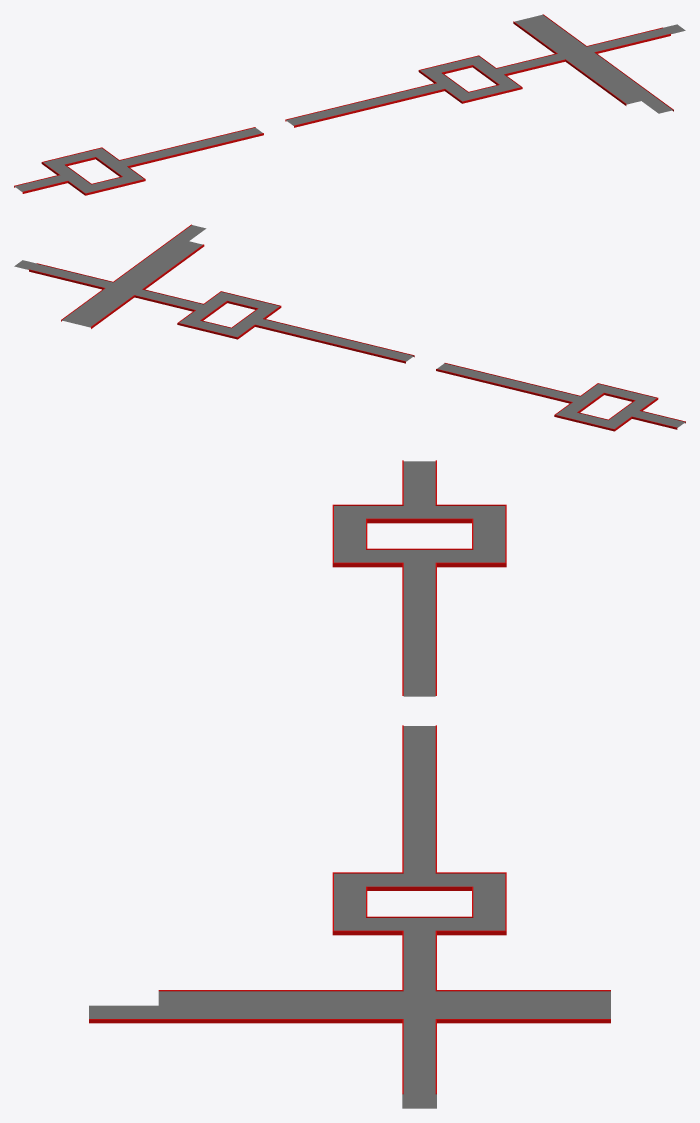
File: routetest.fbx
3 renders of one model, top to bottom at view 1: azimuth 30°, elevation 25°; view 2: azimuth 150°, elevation 25°; view 3: azimuth 270°, elevation 25°, orthographic. The views are drawn at different scales.
Visible parts, largest first — view 1: pCube191; view 2: pCube191; view 3: pCube191.
Part boxes in pixels (<box>): pCube191: <box>14,14,685,195</box>; pCube191: <box>14,224,685,431</box>; pCube191: <box>89,460,610,1108</box>.
Size of the model in its own units: 44 by 0.1243 by 15.
